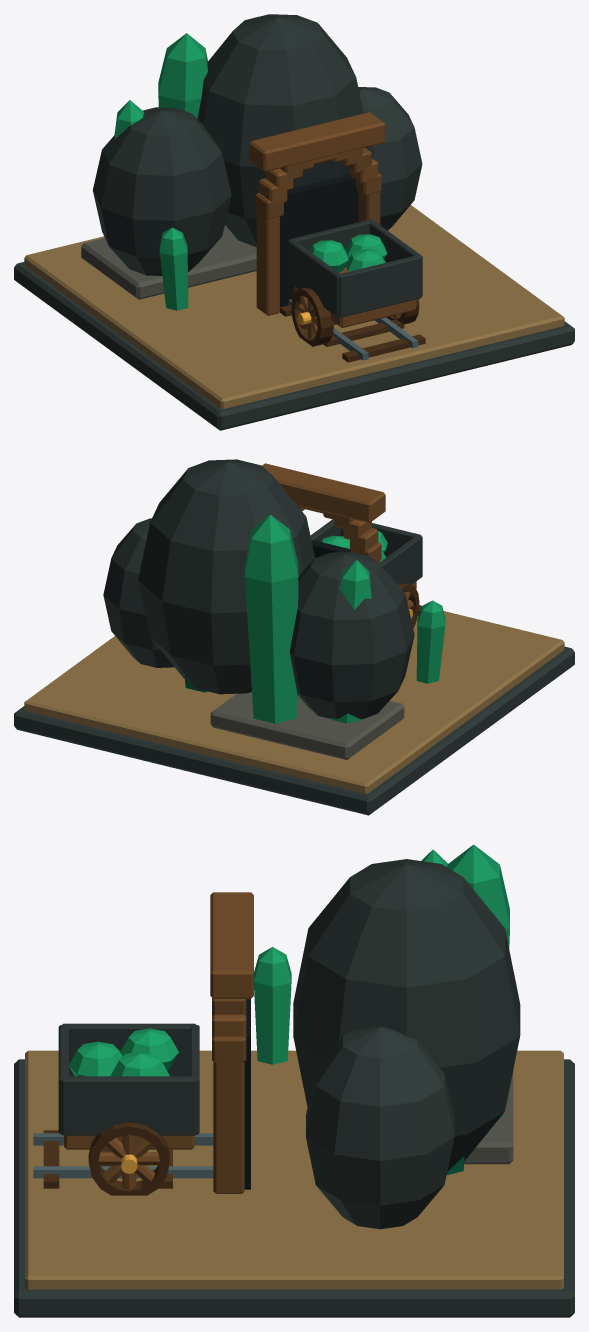
3 views of the same model, one above another, from view 1: azimuth 30°, elevation 25°; view 2: azimuth 150°, elevation 25°; view 3: azimuth 270°, elevation 25° (orthographic). The views are drawn at different scales.
Visible parts, largest first — view 1: gem_mine_2_structure; view 2: gem_mine_2_structure; view 3: gem_mine_2_structure.
Part boxes in pixels (x1,y1,x2,y2): gem_mine_2_structure: [14, 14, 574, 430]; gem_mine_2_structure: [14, 459, 574, 815]; gem_mine_2_structure: [14, 844, 574, 1317].
Size of the model in its own units: 3.6 by 2.5 by 3.6.
